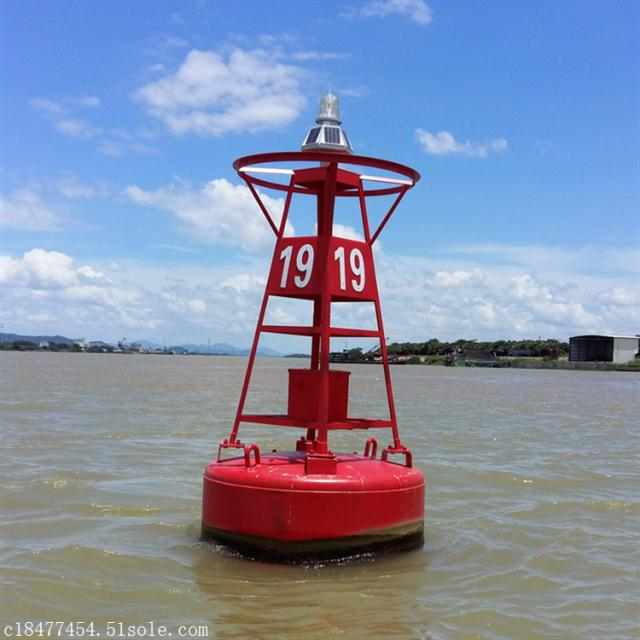buoy: (195, 84, 450, 558)
